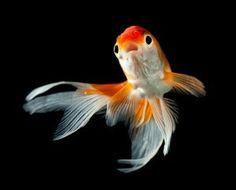goldfish: (34, 19, 207, 167)
